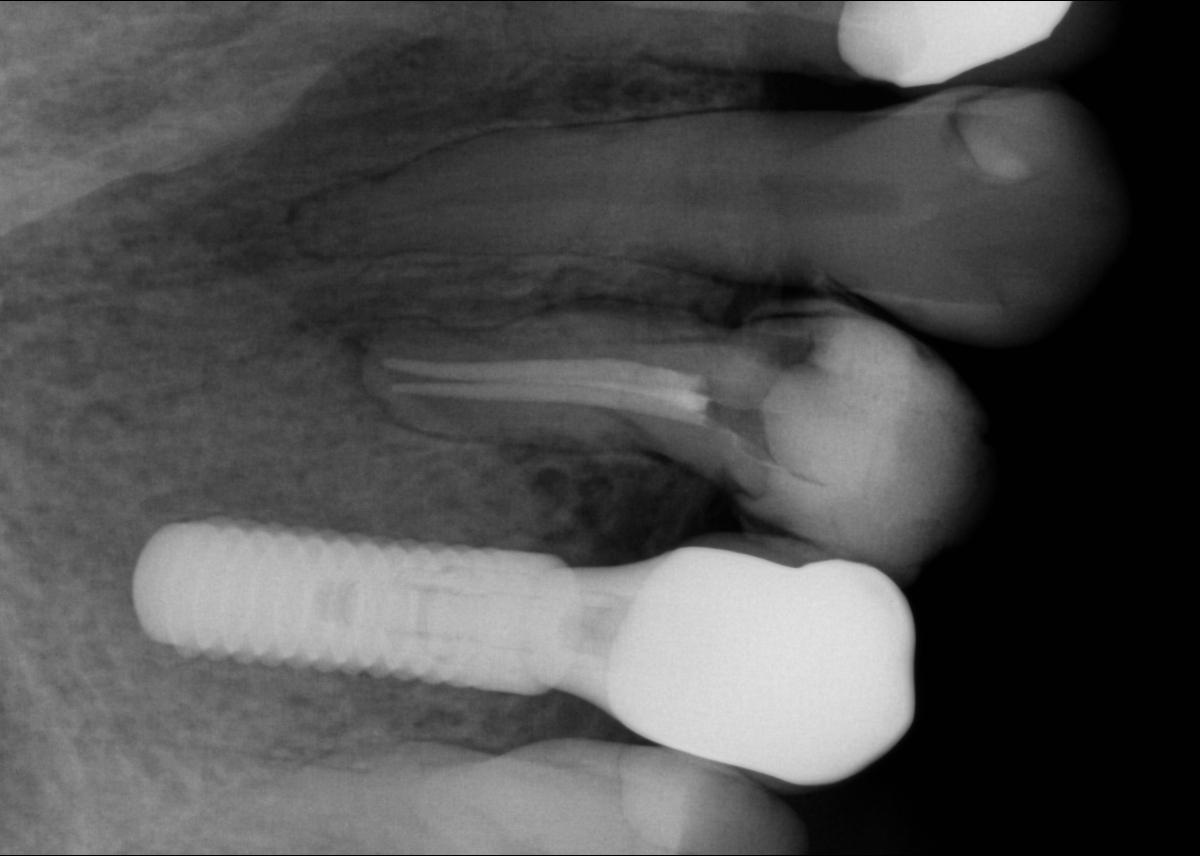Furcation Involvement: (284, 161, 406, 263)
